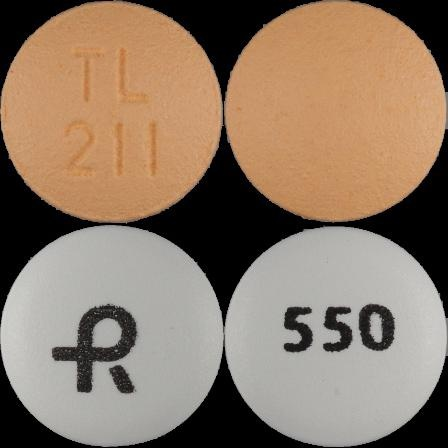21695-036: (0, 0, 224, 224)
